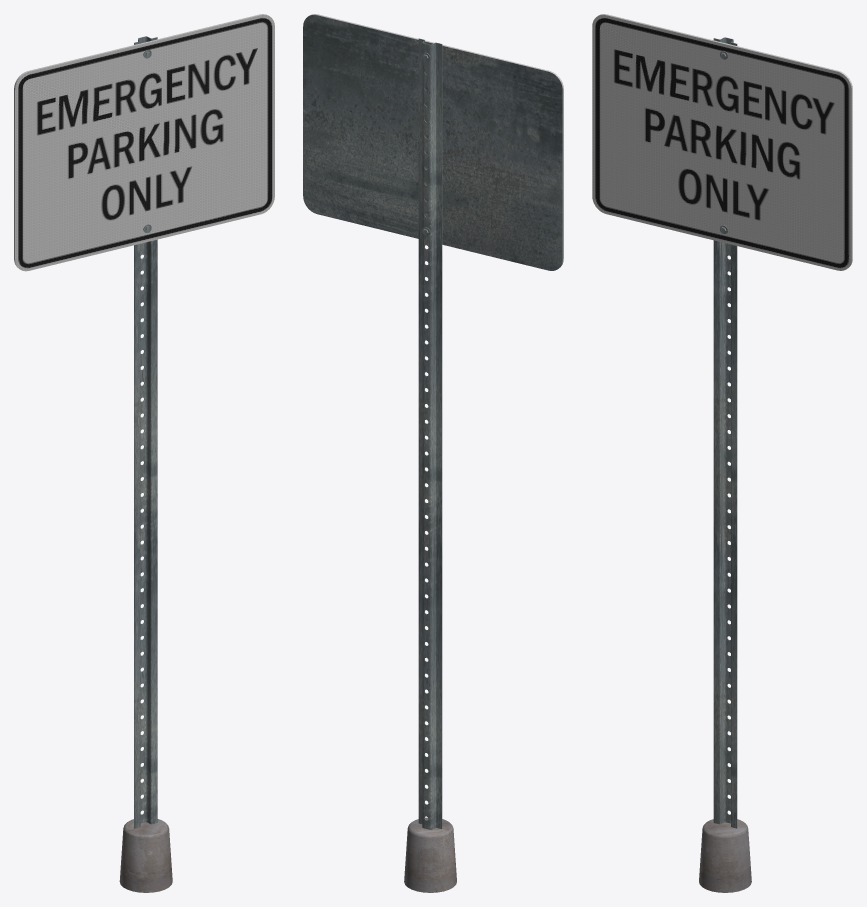
Rendered from emergencyparkingonly_nsoc.obj.
The picture shows the model from 3 angles, left to right: view 1: azimuth 30°, elevation 25°; view 2: azimuth 150°, elevation 25°; view 3: azimuth 330°, elevation 25°; orthographic projection.
Visible parts, largest first — view 1: sign_emergency_parking_only; view 2: sign_emergency_parking_only; view 3: sign_emergency_parking_only.
Boxes of the visible parts, x1,y1,x2,y2 form: sign_emergency_parking_only: (14,14,274,892); sign_emergency_parking_only: (303,14,563,892); sign_emergency_parking_only: (592,14,852,892).
Bounding box in the file's own units: 33.06 × 102 × 5.84.
Materials: 3 (3 with a texture image).
